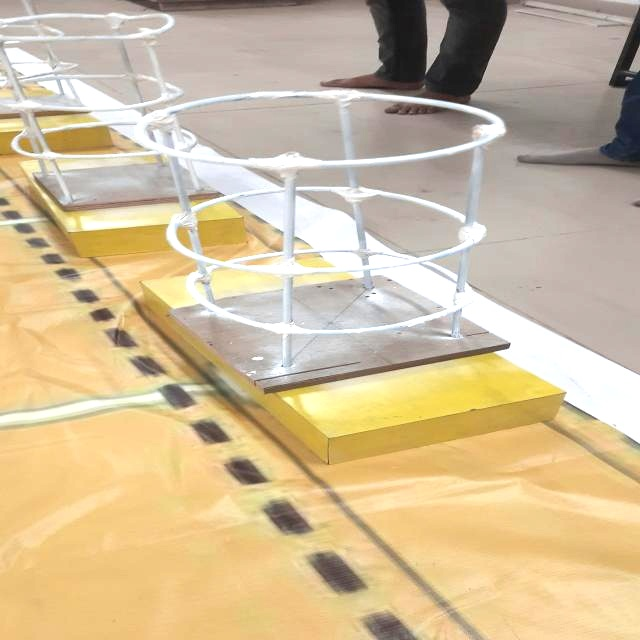silo: (106, 77, 526, 386), (0, 7, 216, 223)
